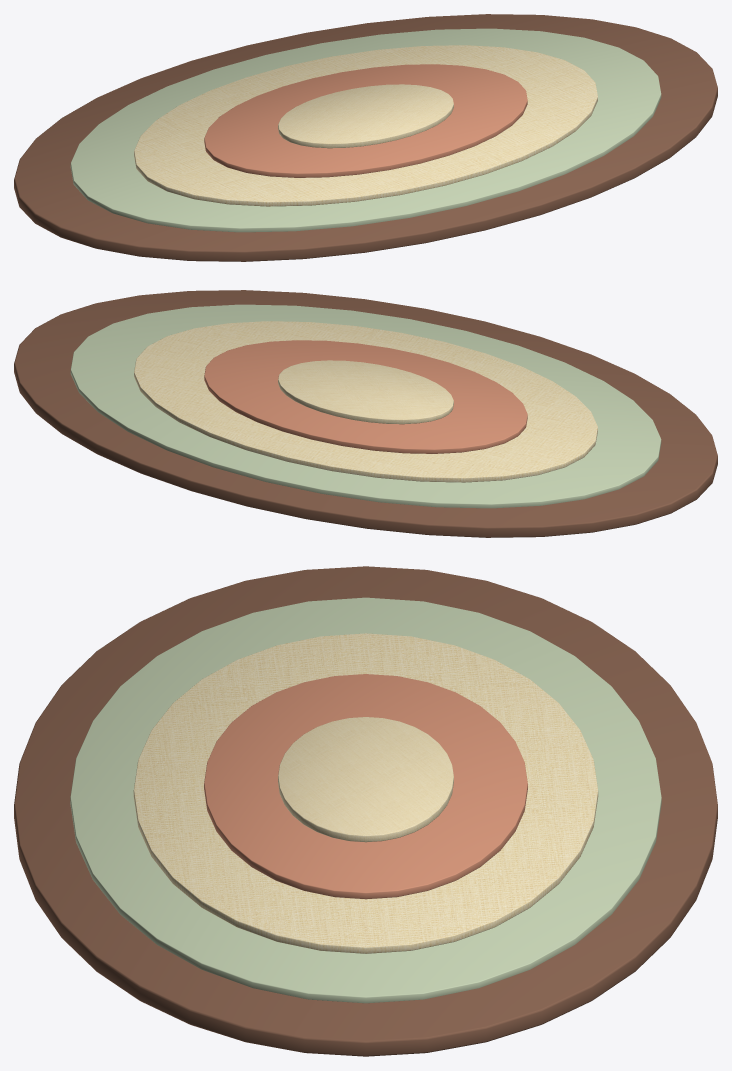
The model's file is braided-rug.glb.
The picture shows the model from 3 angles, top to bottom: view 1: azimuth 30°, elevation 25°; view 2: azimuth 150°, elevation 25°; view 3: azimuth 270°, elevation 25°; orthographic projection. The views are drawn at different scales.
Parts seen in each view (by area): view 1: braided-rug; view 2: braided-rug; view 3: braided-rug.
Boxes of the visible parts, x1,y1,x2,y2 form: braided-rug: [14, 14, 717, 261]; braided-rug: [14, 290, 717, 537]; braided-rug: [14, 566, 717, 1056].
Bounding box in the file's own units: 1.6 × 0.068 × 1.
5 materials, 2 textured.
